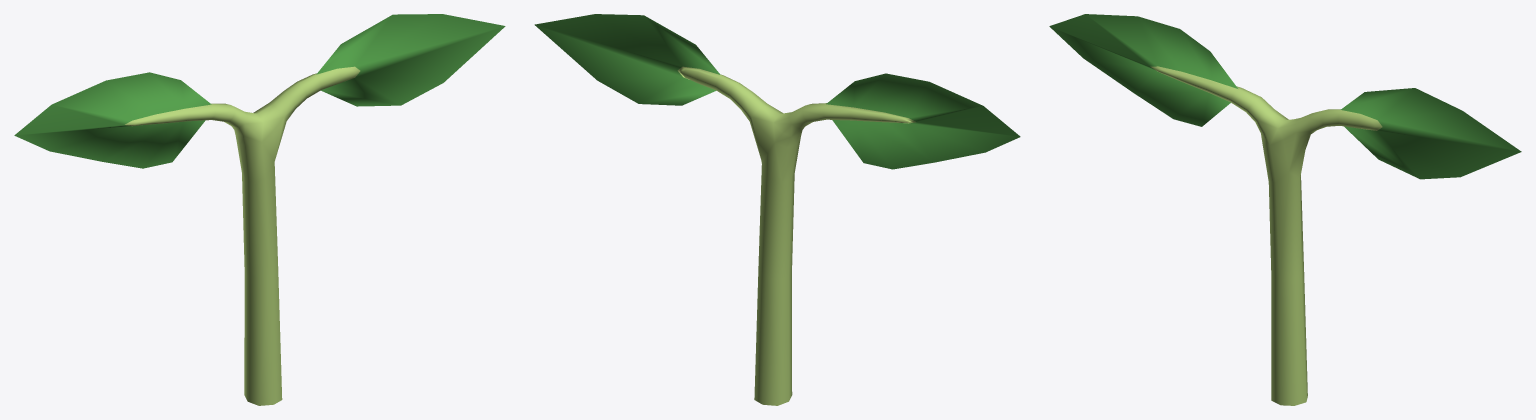
File: Seedling.fbx
3 views of the same model, side by side, from view 1: azimuth 30°, elevation 25°; view 2: azimuth 150°, elevation 25°; view 3: azimuth 330°, elevation 25° (orthographic). The views are drawn at different scales.
Visible parts, largest first — view 1: Plane; view 2: Plane; view 3: Plane.
Part boxes in pixels (left/top/right/bottom): Plane: left=14, top=14, right=505, bottom=405; Plane: left=534, top=14, right=1020, bottom=405; Plane: left=1049, top=14, right=1521, bottom=405.
Size of the model in its own units: 3.51 by 2.44 by 0.2435.
